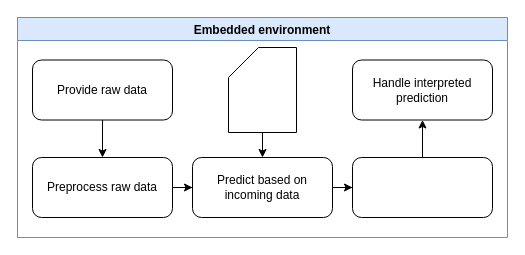
The diagram is 525 pixels wide and 255 high, and some of its shapes have lost their labels. The centre of each missing label's shape, as x and y in pixels:
"C array containing the model" goes at (262,89).
"Interpret prediction" goes at (422,187).
